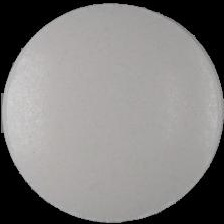69189-4124: (0, 0, 224, 224)
